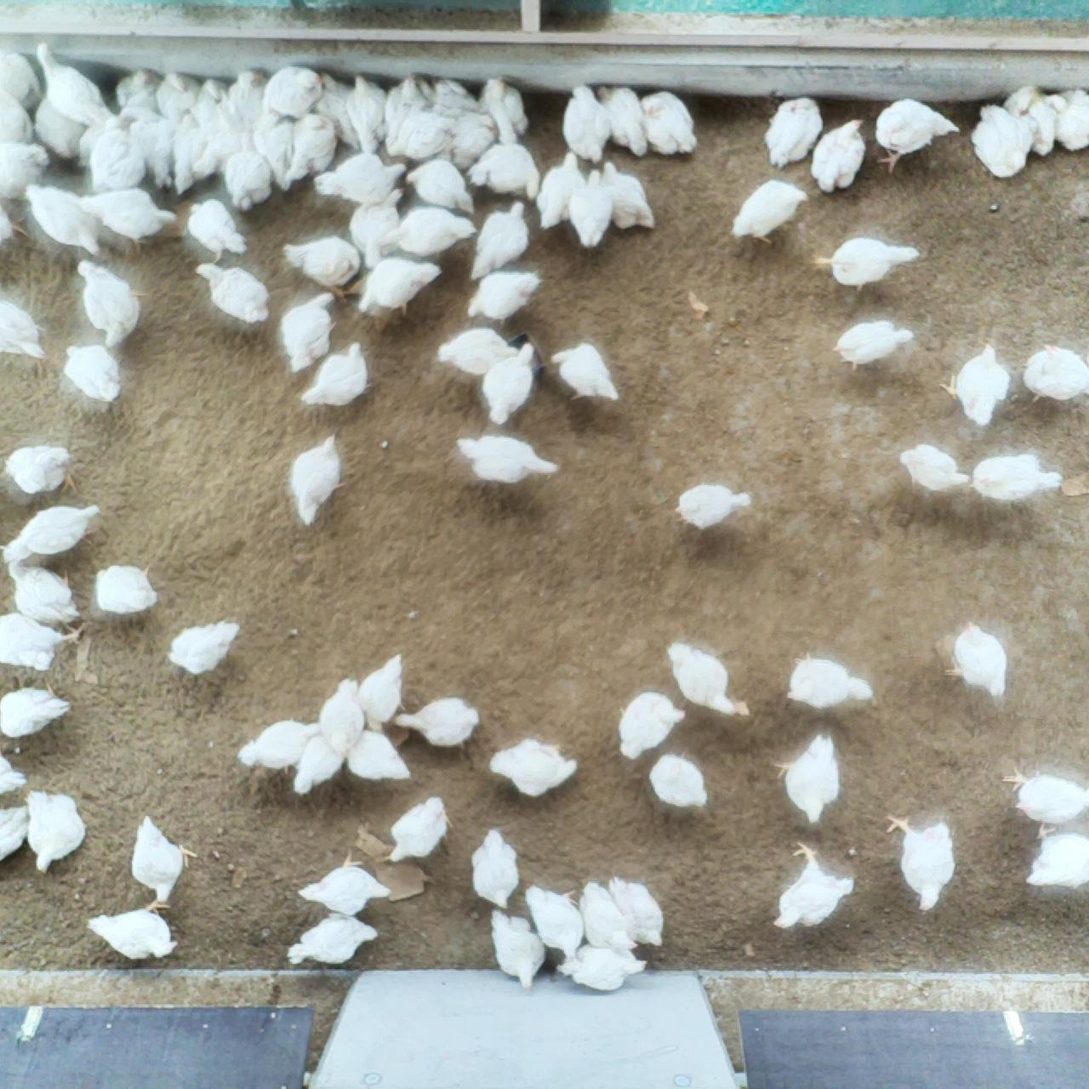chicken: (768, 841, 857, 932), (882, 808, 958, 914), (79, 184, 180, 257), (0, 499, 109, 566), (663, 635, 747, 721), (73, 256, 150, 348), (872, 93, 960, 172), (34, 42, 112, 128), (770, 728, 840, 822), (359, 254, 445, 330), (938, 342, 1013, 428), (129, 812, 196, 908), (486, 733, 578, 802), (22, 179, 100, 258), (288, 429, 349, 529), (455, 430, 562, 486), (779, 652, 874, 713), (373, 203, 478, 258), (89, 899, 180, 961), (468, 196, 535, 280), (301, 856, 393, 917), (283, 912, 381, 969), (941, 620, 1009, 702), (381, 791, 455, 865), (729, 179, 809, 246), (192, 260, 274, 325), (614, 690, 688, 762), (0, 609, 83, 673), (1005, 764, 1089, 826), (483, 341, 543, 427), (27, 787, 87, 873), (390, 695, 483, 750), (310, 149, 404, 203), (970, 449, 1064, 503), (811, 234, 921, 280), (23, 81, 89, 157), (487, 911, 549, 991), (523, 883, 587, 960), (309, 68, 369, 150), (1020, 820, 1089, 891), (547, 338, 620, 405), (555, 941, 649, 993), (346, 185, 404, 269), (834, 315, 915, 375), (2, 561, 79, 624), (974, 100, 1032, 180), (278, 290, 333, 374), (602, 876, 666, 948), (436, 324, 521, 378), (358, 650, 413, 733), (282, 108, 339, 188), (465, 268, 545, 325), (91, 110, 145, 194), (468, 140, 540, 203), (637, 86, 698, 159), (594, 159, 654, 233), (810, 114, 866, 193), (470, 827, 522, 912), (592, 83, 650, 159), (131, 110, 186, 190), (284, 236, 356, 297), (1021, 338, 1089, 402), (565, 167, 618, 249), (240, 720, 322, 773), (3, 440, 82, 495), (573, 881, 637, 948), (169, 616, 240, 676), (334, 726, 411, 781), (316, 674, 367, 757), (764, 94, 821, 168), (290, 721, 344, 796), (188, 196, 249, 262), (533, 151, 585, 228), (62, 340, 122, 406), (898, 440, 970, 495), (565, 82, 612, 166), (1006, 86, 1059, 160), (671, 482, 751, 531), (0, 683, 71, 738), (219, 68, 273, 140), (405, 157, 474, 213), (90, 560, 160, 615), (646, 751, 711, 810), (390, 109, 462, 161), (188, 131, 257, 185), (473, 76, 527, 144), (165, 114, 213, 190), (113, 64, 165, 132), (0, 289, 47, 364), (341, 72, 385, 150), (222, 148, 274, 212), (385, 73, 424, 158), (253, 110, 294, 190), (262, 65, 324, 117), (1046, 83, 1089, 154), (0, 144, 54, 198), (450, 115, 500, 170), (420, 74, 479, 120), (155, 68, 202, 123), (0, 45, 39, 107), (0, 800, 36, 866), (0, 85, 33, 149), (192, 77, 229, 134), (0, 205, 31, 251), (0, 744, 21, 795)
